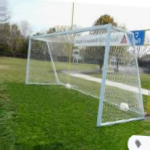goals: (23, 22, 149, 128)
